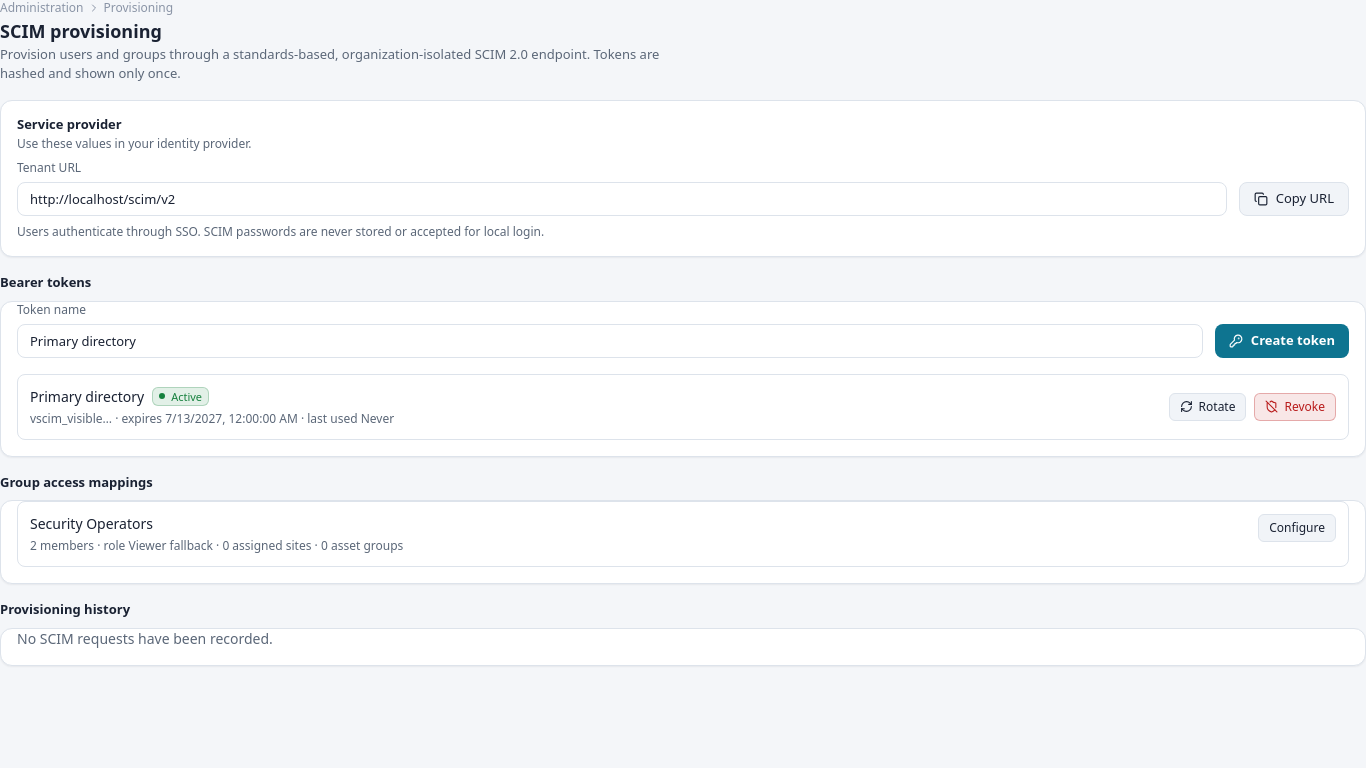
Test: shows one-time tokens and requires a mapping preview before apply
The image size is (1366, 768).
Check: the text "Primary directory" is shown, box [30,386,144,406]
Check: the field showing "/scim/v2" is shown, box [17,182,1227,216]
Click the button "Create token" at point(1282, 340), box [1215,324,1349,358]
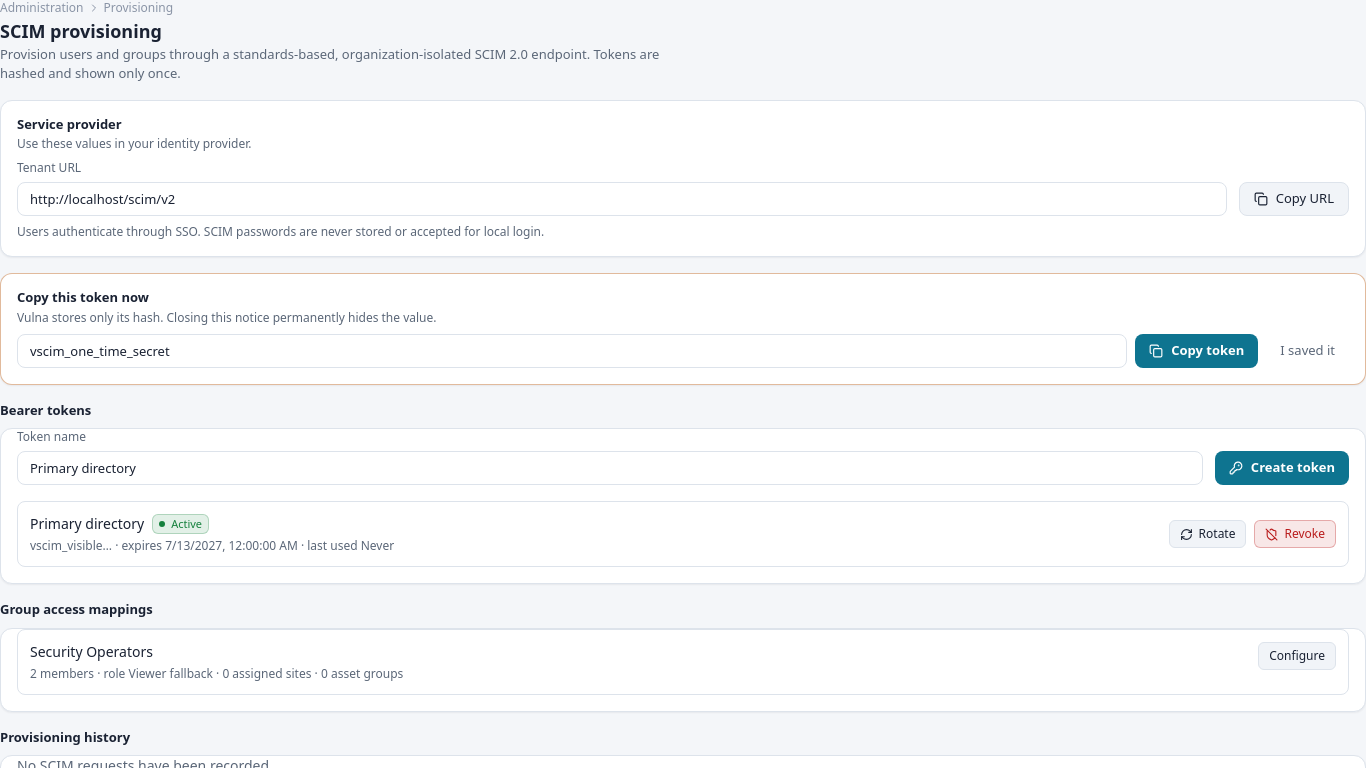
Check: the field showing "vscim_one_time_secret" is shown, box [17,334,1127,368]
Click the button "Configure" at point(1297, 656), box [1258,642,1336,670]
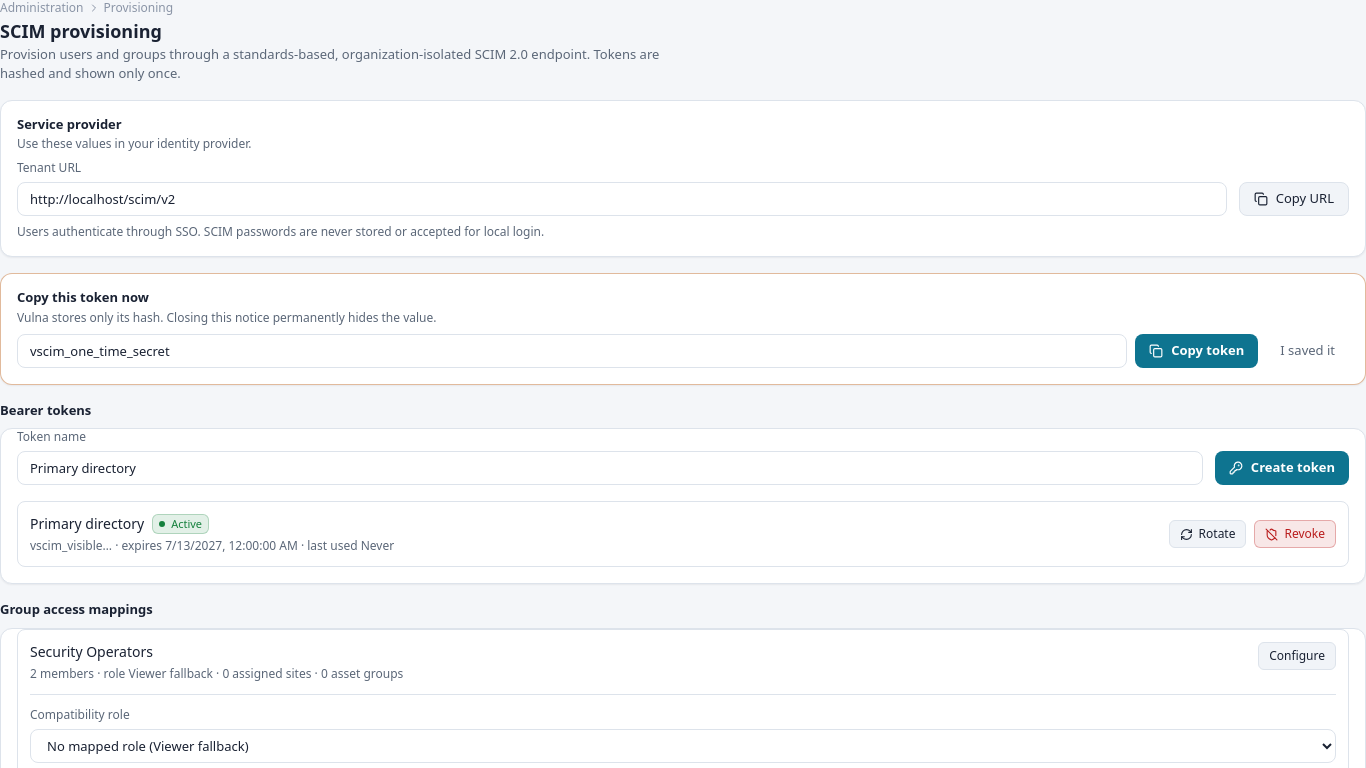
Select "Security Operator" in the dropdown at point(683, 746), box [30,728,1336,762]
(page scrolled)
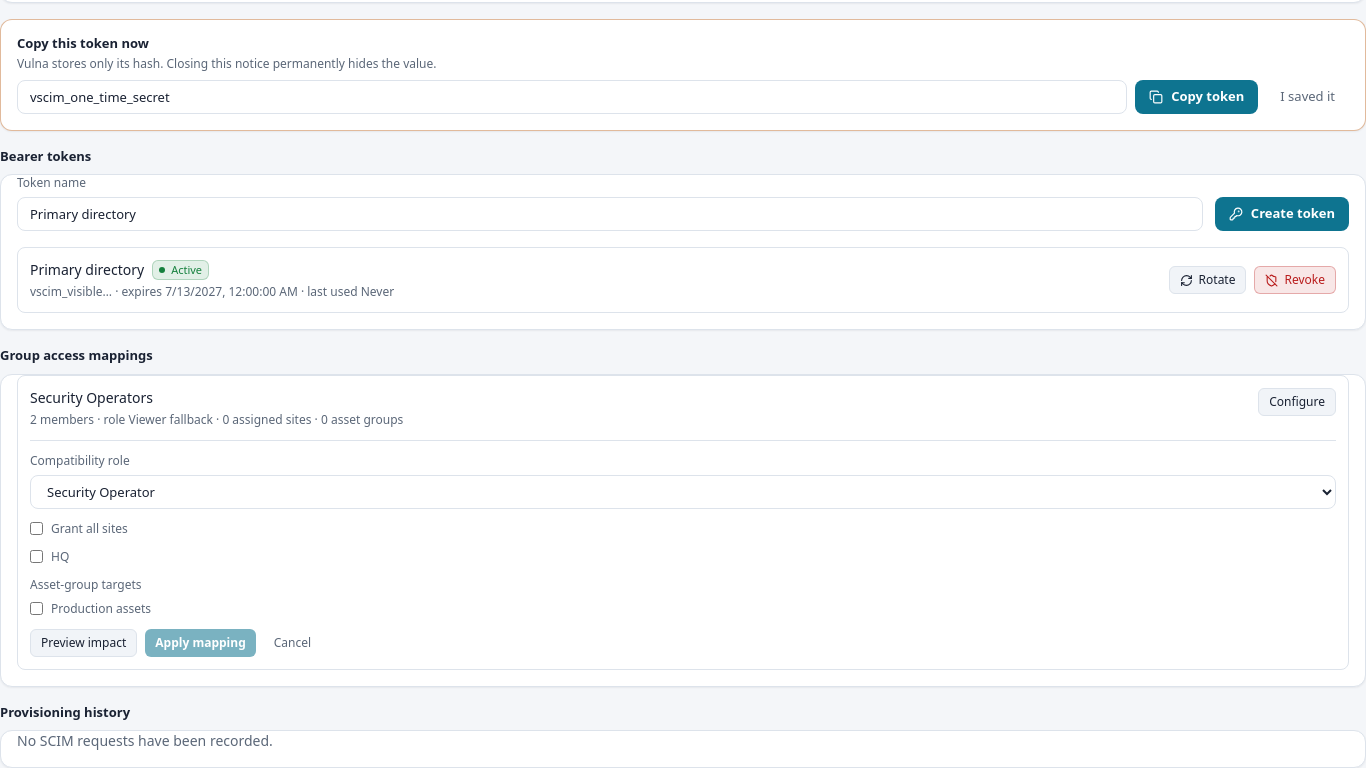
Click the checkbox labelled "HQ" at point(36, 556), box [30,550,43,563]
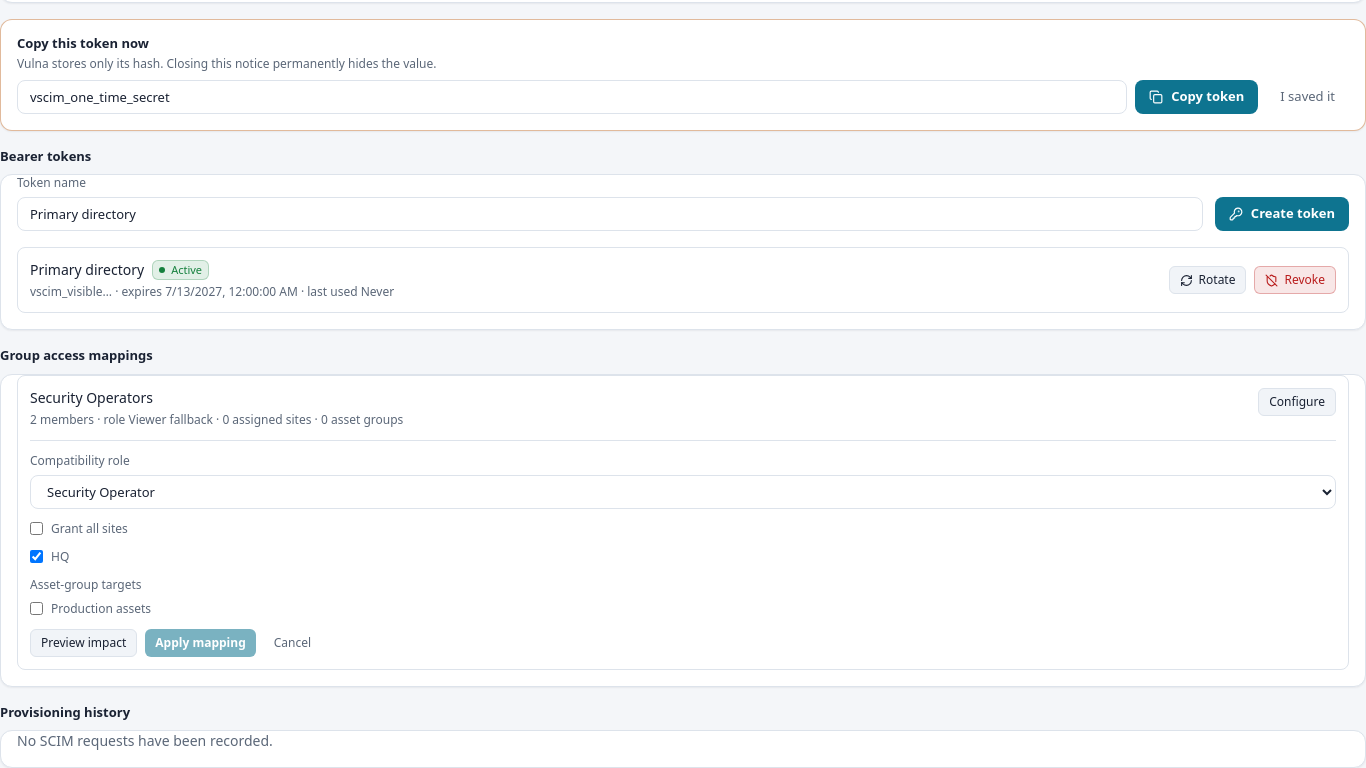
Click the checkbox labelled "Production assets" at point(36, 608), box [30,602,43,615]
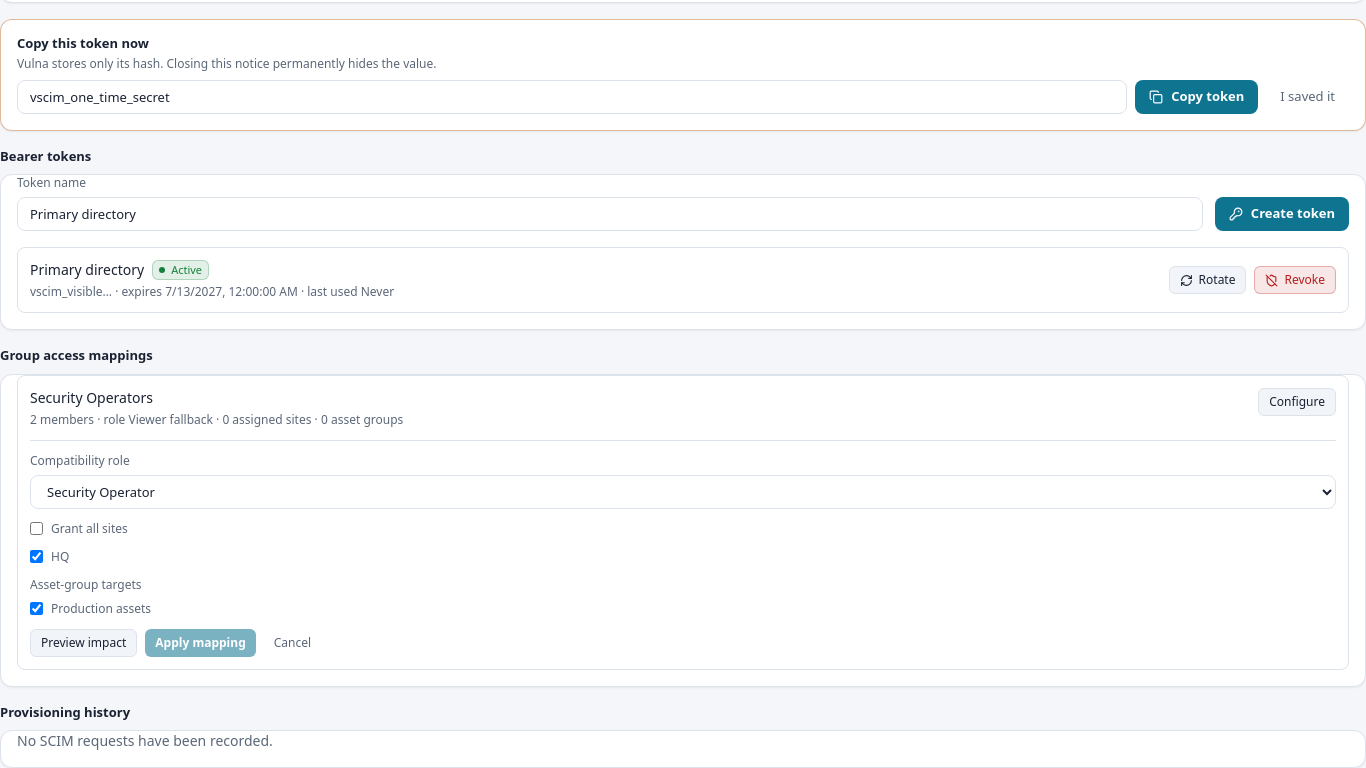
Click the button "Preview impact" at point(84, 642), box [30,628,137,656]
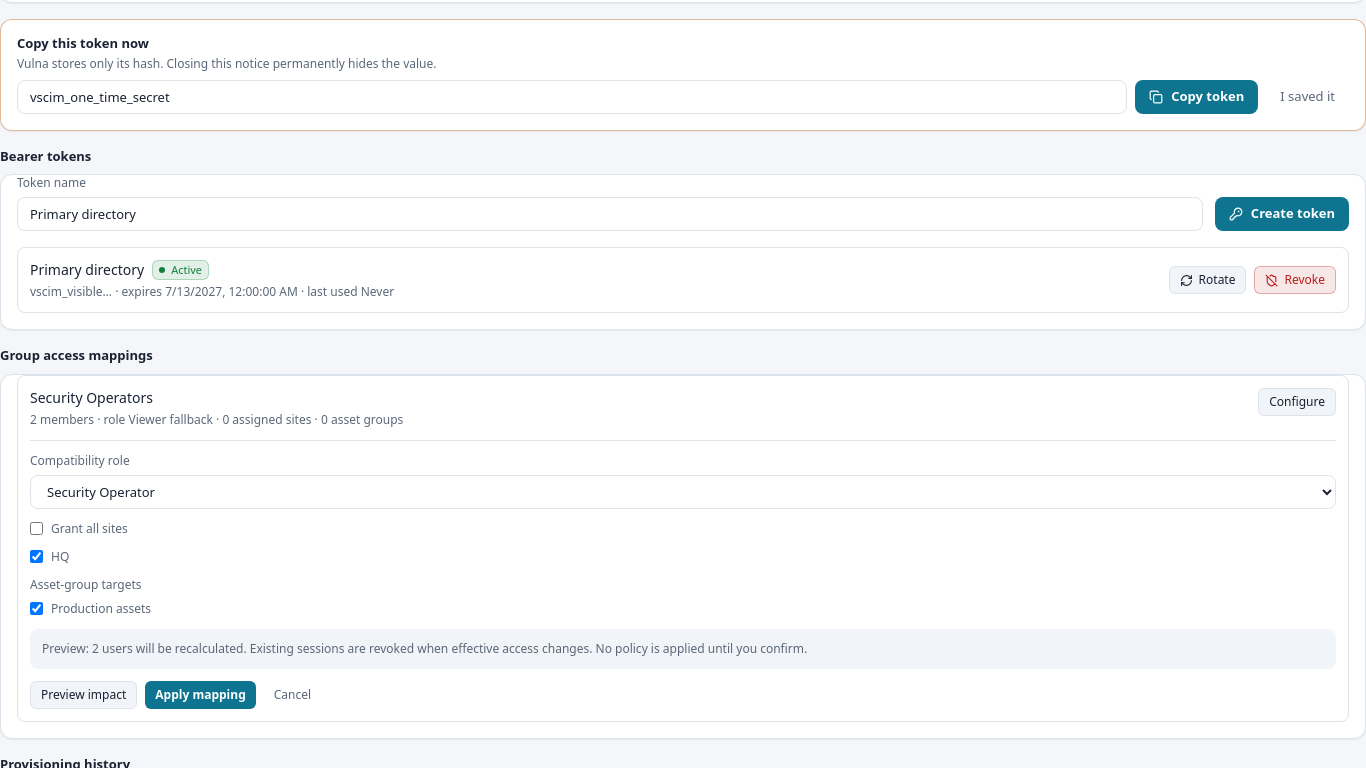
Check: the text "Preview: 2 users" is shown, box [30,628,1336,668]
Check: the button "Apply mapping" is enabled, box [145,680,256,708]
